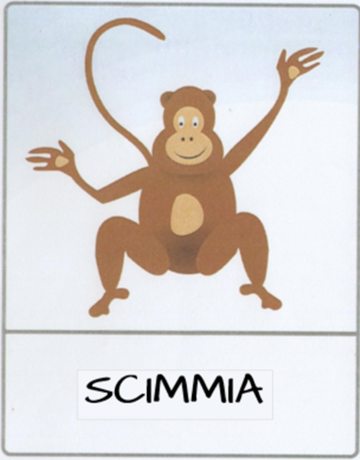scimmia: (20, 6, 343, 428)
